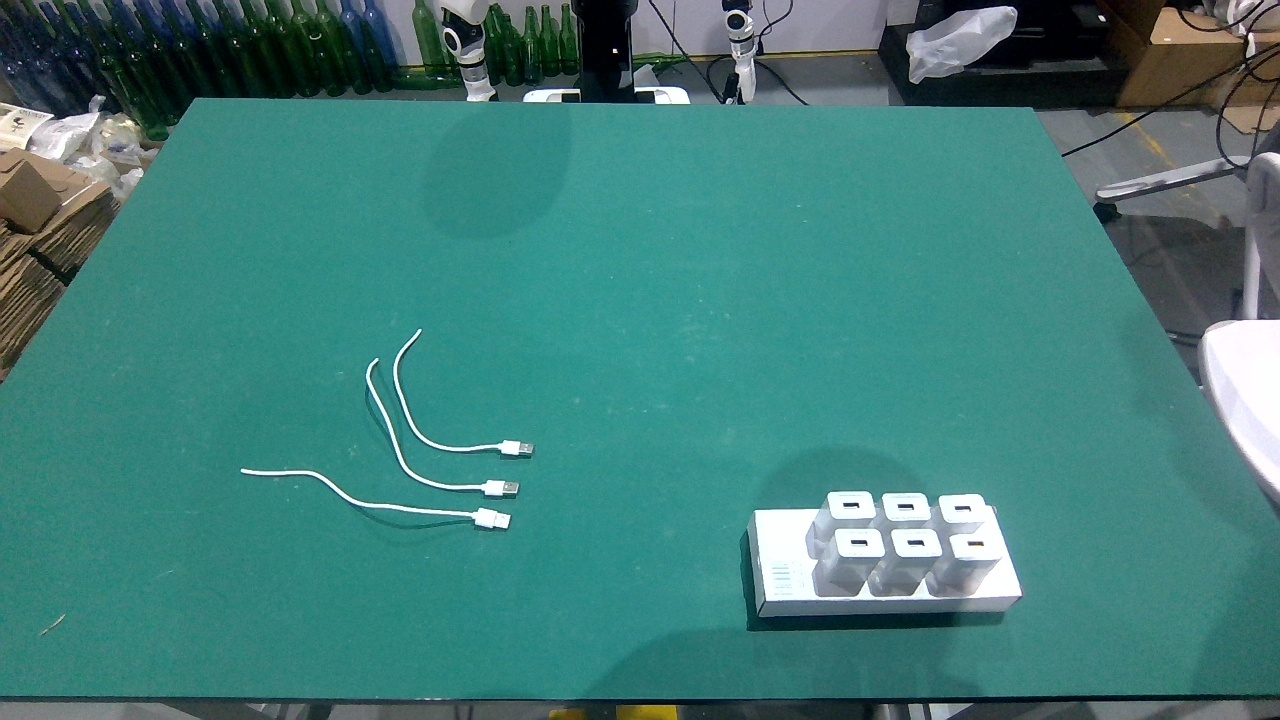usb_a_port: (951, 502, 974, 516), (965, 539, 990, 551), (895, 502, 918, 514), (849, 537, 872, 549), (840, 501, 863, 510), (906, 538, 926, 548)
